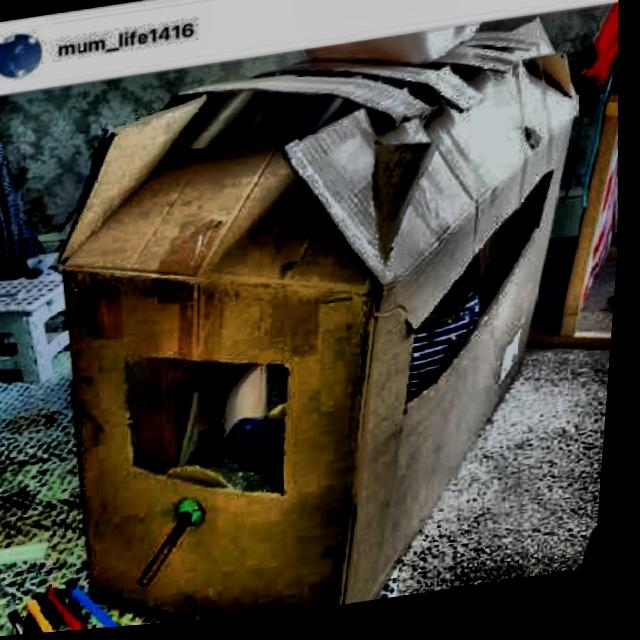Cardbox: (9, 13, 617, 637)
